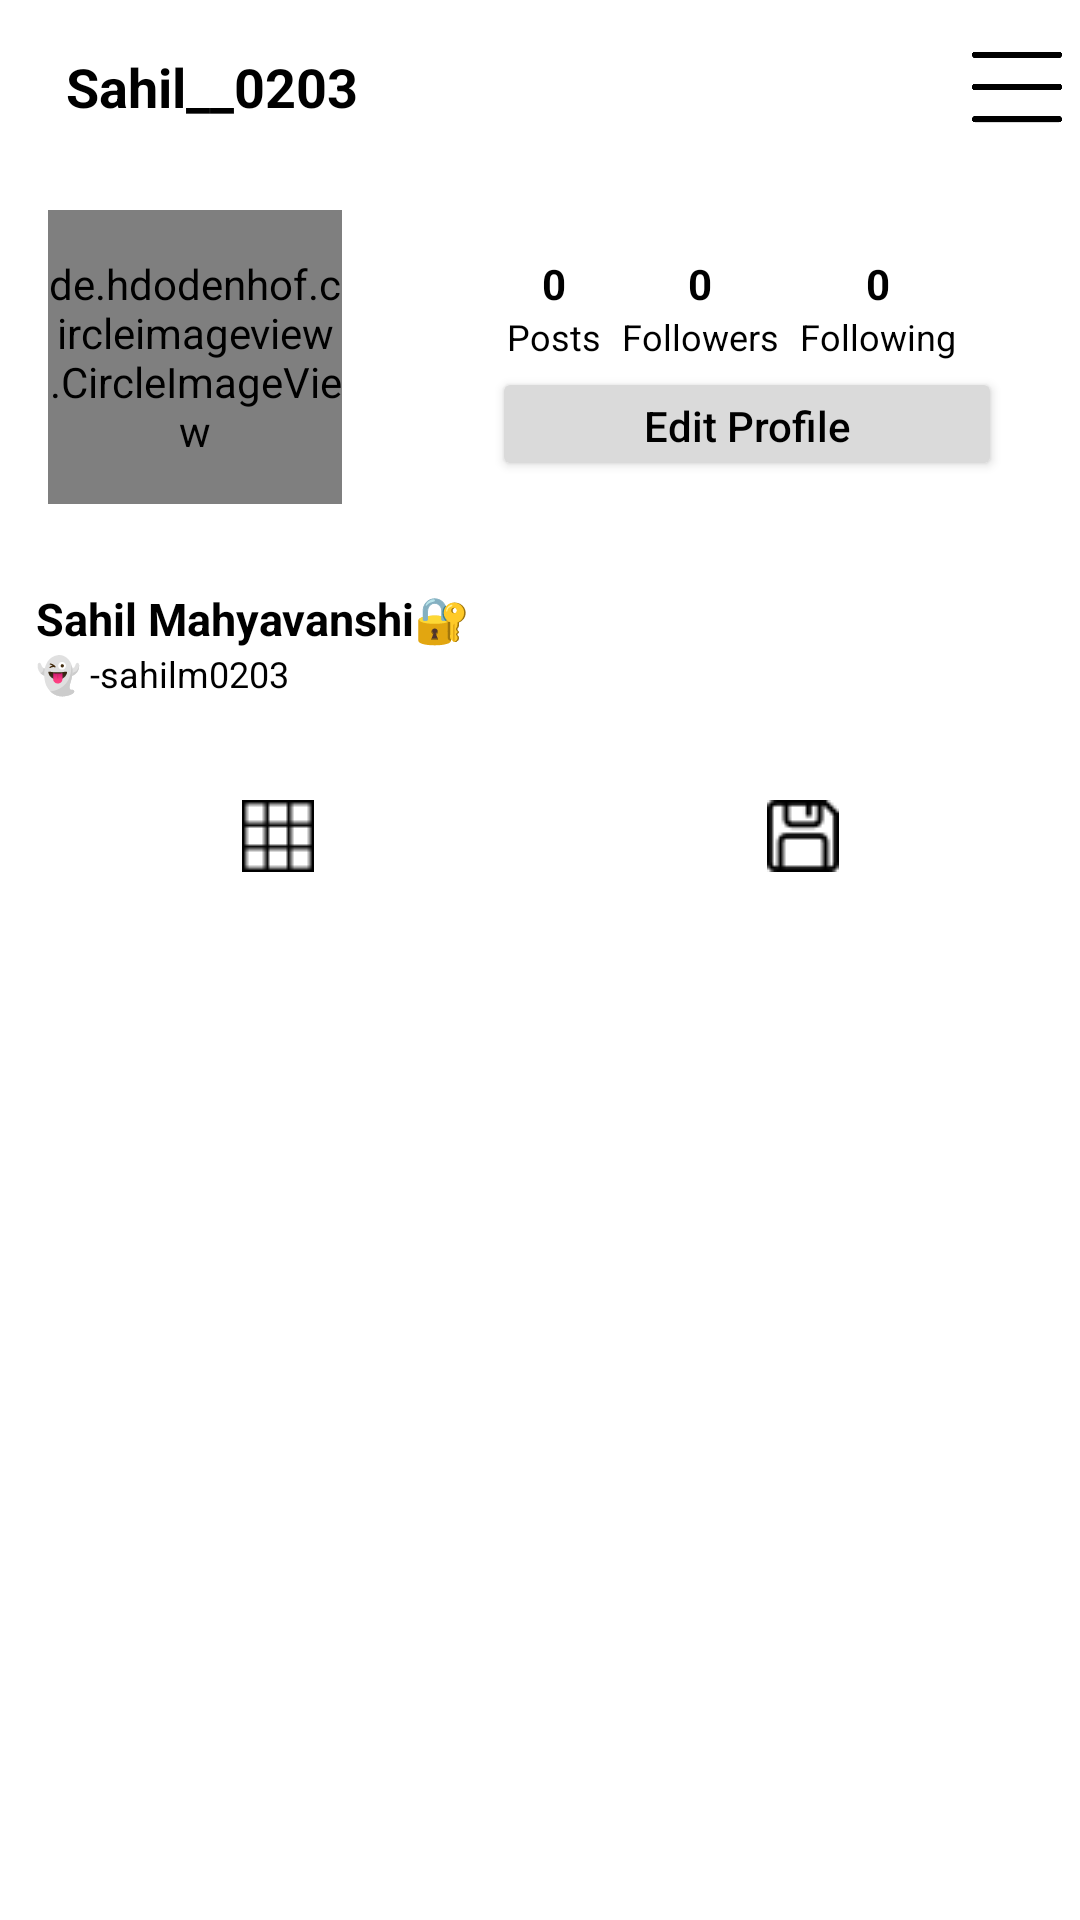

Point at icon controls on the screen. Image size 1080 x 1920, points as (x,y).
grid: (278,836)
options: (1017,87)
save: (803,836)
